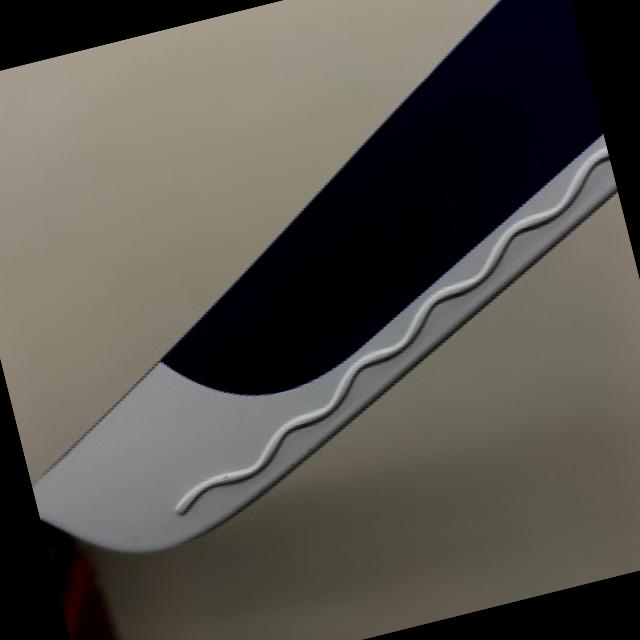healthy: (35, 0, 617, 549)
